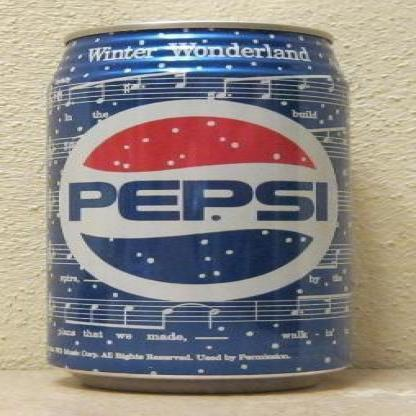alumunium_can: (43, 14, 357, 398)
